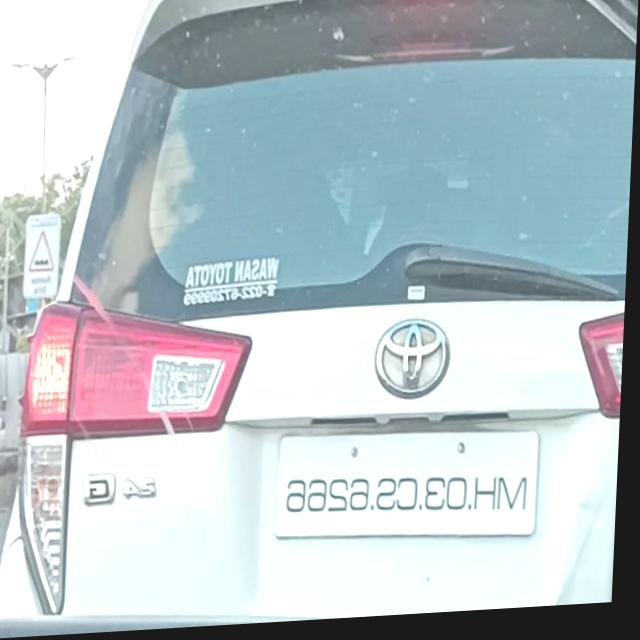0: (451, 482, 473, 517)
2: (333, 482, 354, 519)
3: (428, 481, 450, 517)
6: (289, 482, 310, 519), (354, 482, 375, 516), (311, 484, 331, 519)
c: (400, 482, 424, 518)
h: (479, 481, 503, 520)
m: (501, 478, 534, 525)
s: (379, 483, 403, 517)
